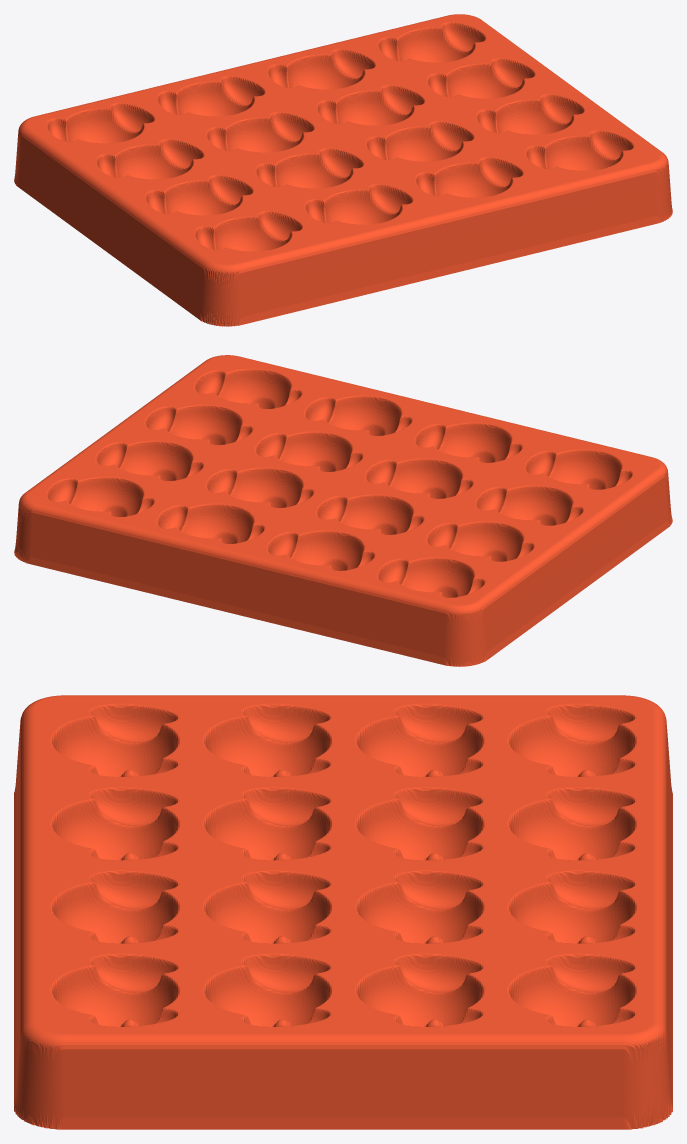
Rendered from mold.glb.
The picture shows the model from 3 angles, top to bottom: view 1: azimuth 30°, elevation 25°; view 2: azimuth 150°, elevation 25°; view 3: azimuth 270°, elevation 25°; orthographic projection. The views are drawn at different scales.
Visible parts, largest first — view 1: geometry_0; view 2: geometry_0; view 3: geometry_0.
Part boxes in pixels (x1,y1,x2,y2): geometry_0: (14, 14, 672, 326); geometry_0: (14, 355, 672, 666); geometry_0: (14, 695, 672, 1129).
Bounding box in the file's own units: 0.1521 × 0.0175 × 0.1197.
